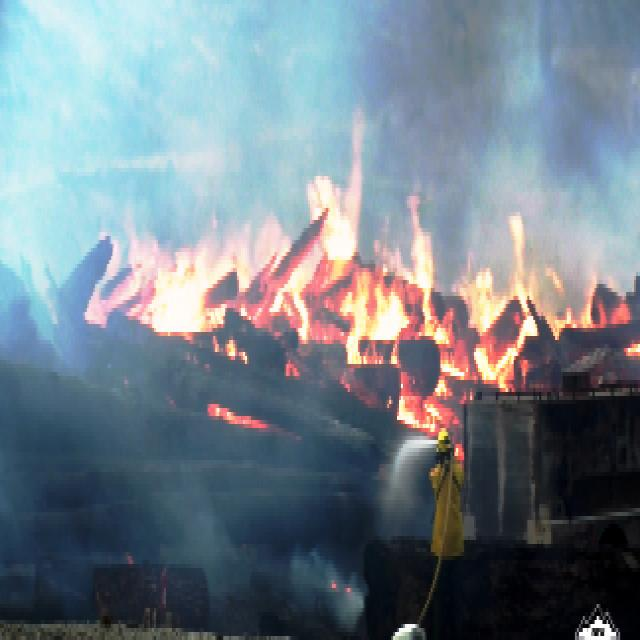api: (70, 122, 640, 462)
asap: (163, 450, 261, 617), (282, 542, 376, 637)
